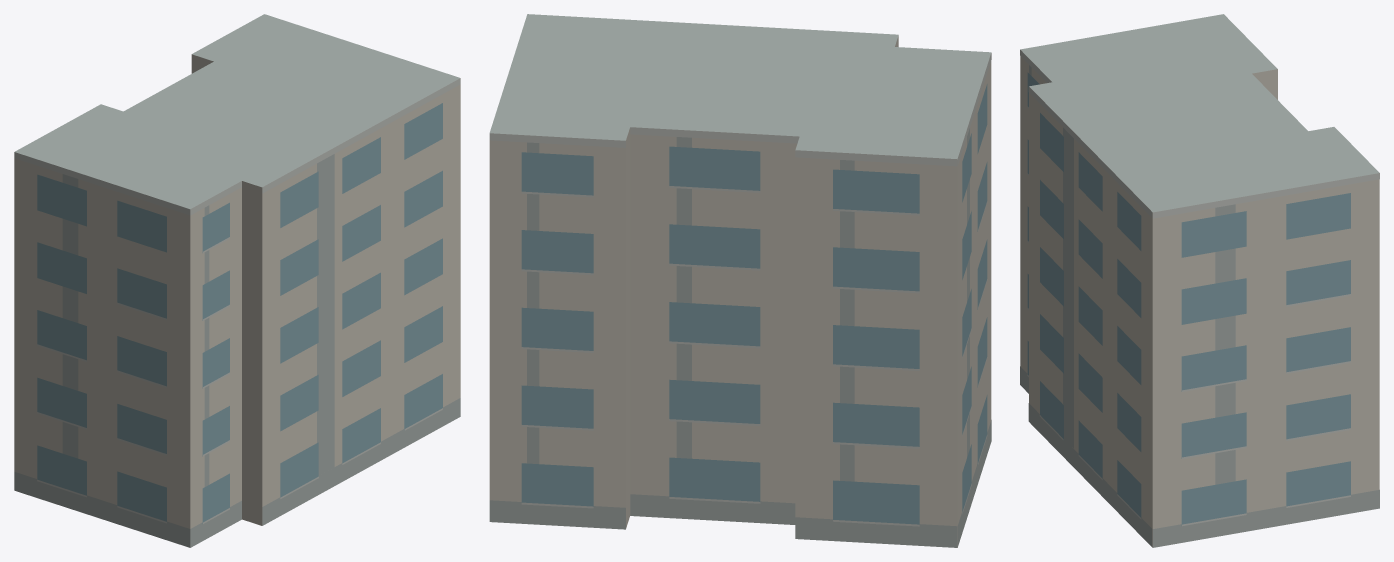
Rendered from survey-upis-32620419.glb.
3 views of the same model, side by side, from view 1: azimuth 30°, elevation 25°; view 2: azimuth 150°, elevation 25°; view 3: azimuth 270°, elevation 25° (orthographic). The views are drawn at different scales.
Parts seen in each view (by area): view 1: survey-upis-32620419.tmp; view 2: survey-upis-32620419.tmp; view 3: survey-upis-32620419.tmp.
Part boxes in pixels (x1=…): survey-upis-32620419.tmp: x1=14, y1=14, x2=460, y2=547; survey-upis-32620419.tmp: x1=489, y1=14, x2=991, y2=547; survey-upis-32620419.tmp: x1=1020, y1=14, x2=1379, y2=547.
Bounding box in the file's own units: 16.76 × 13.2 × 12.84.
